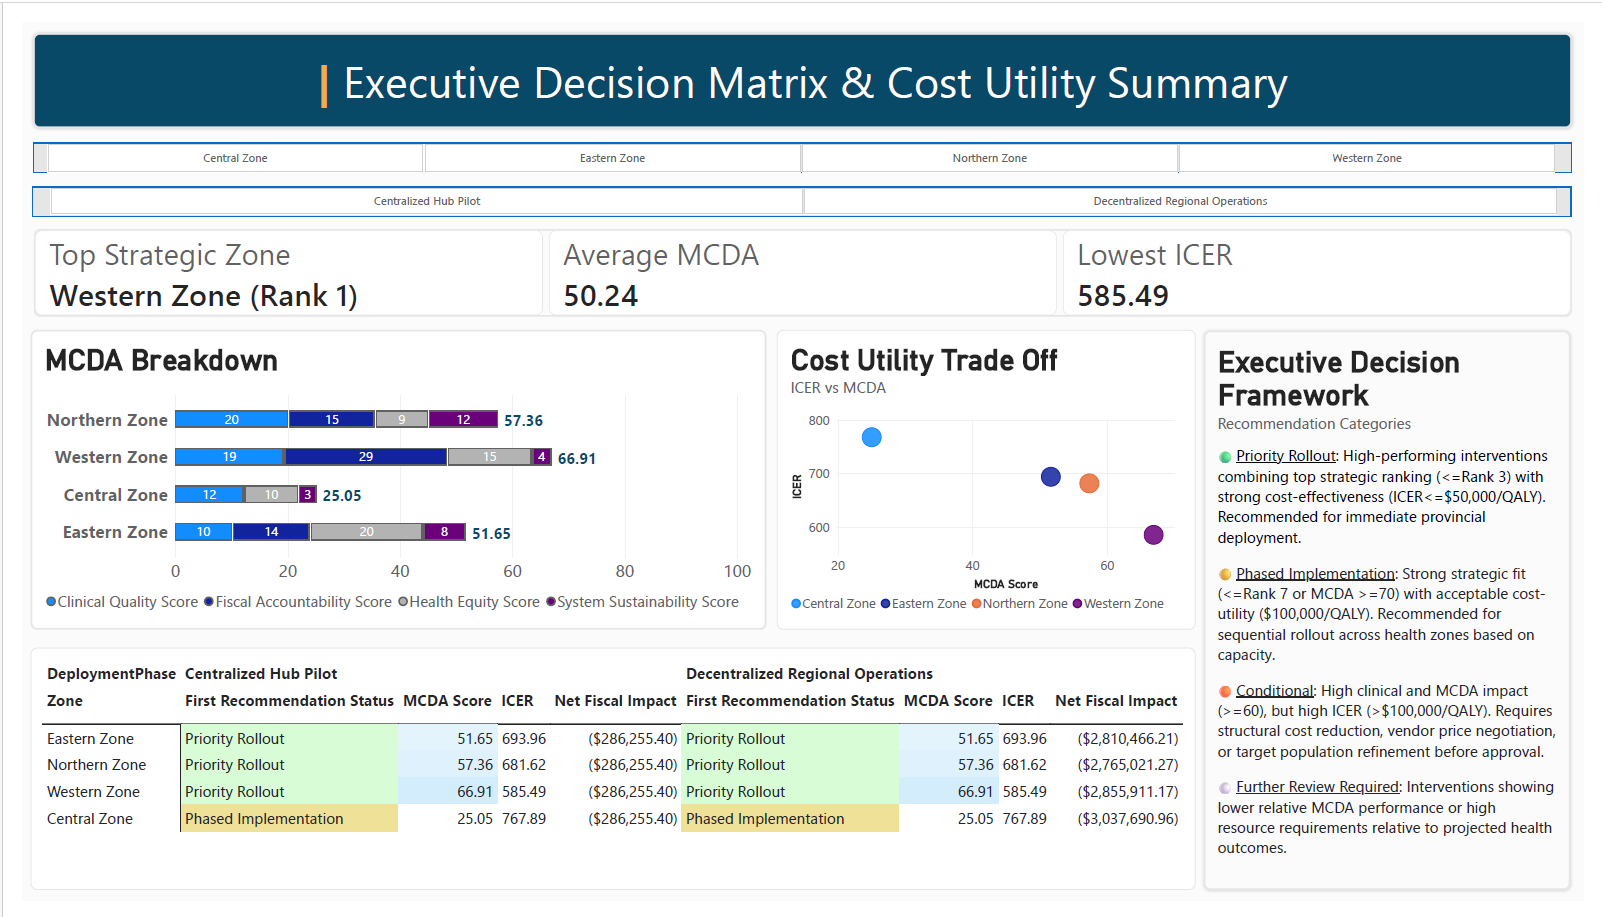

Layout of this report page (visuals, bound fields, positions):
{"tool":"powerbi","page":{"name":"Executive Decision Matrix","canvas":[1920,1080],"ordinal":2},"visuals":[{"type":"cardVisual","fields":{"Data":["MCDA_Output.Top Strategic Zone","Avg(MCDA_Output.Composite_MCDA_Index)","select","Min(MCDA_Output.CostUtility_ICER)"]},"box":[14,254,1892,108],"z":0},{"type":"textbox","box":[13,13,1892.6,116.6],"z":1000},{"type":"pivotTable","title":"Total Program Cost","fields":{"Columns":["ns_health_10yr_financial_forecast.DeploymentPhase"],"Rows":["MCDA_Output.Zone"],"Values":["Min(MCDA_Output.Recommendation Status)","Max(MCDA_Output.Composite_MCDA_Index)","Max(MCDA_Output.CostUtility_ICER)","Sum(ns_health_10yr_financial_forecast.Net_Fiscal_Impact)"]},"box":[10,768.6,1432.9,298.6],"z":2000},{"type":"scatterChart","title":"Cost Utility Trade Off ","fields":{"Series":["MCDA_Output.Zone"],"Size":["Sum(ns_health_10yr_financial_forecast.Total_Expected_Savings)"],"X":["MCDA_Output.Composite_MCDA_Index"],"Y":["MCDA_Output.CostUtility_ICER"]},"box":[928.3,378.3,515,368.3],"z":3000},{"type":"shape","box":[13,148,1892.6,37],"z":4000},{"type":"slicer","fields":{"Values":["ns_health_10yr_financial_forecast.Zone"]},"box":[10,148,1894,38],"z":5000},{"type":"shape","box":[12,202,1892.6,37],"z":6000},{"type":"slicer","fields":{"Values":["ns_health_10yr_financial_forecast.DeploymentPhase"]},"box":[14,202,1892,36],"z":7000},{"type":"barChart","title":"MCDA Breakdown","fields":{"Category":["MCDA_Output.Zone"],"Y":["Max(MCDA_Output.Pillar_1_Clinical_Quality_Score)","Max(MCDA_Output.Pillar_2_Fiscal_Accountability_Score)","Max(MCDA_Output.Pillar_3_Health_Equity_Score)","Max(MCDA_Output.Pillar_4_System_Sustainability_Score)"]},"box":[10,378.3,905,368.3],"z":8000},{"type":"textbox","title":"Executive Decision Framework","box":[1452.9,378.6,451.4,688.6],"z":9000}]}

Visuals, with their boxes in screenshot pixels (x1, y1, x2, y2), scaled from the page's 1920x1080 canvas onto the 1602x917 screenshot:
cardVisual - MCDA_Output.Top Strategic Zone x Avg(MCDA_Output.Composite_MCDA_Index): 12,216,1590,307
textbox: 11,11,1590,110
"Total Program Cost" pivotTable: 8,653,1204,906
"Cost Utility Trade Off " scatterChart: 775,321,1204,634
shape: 11,126,1590,157
slicer - ns_health_10yr_financial_forecast.Zone: 8,126,1589,158
shape: 10,172,1589,203
slicer - ns_health_10yr_financial_forecast.DeploymentPhase: 12,172,1590,202
"MCDA Breakdown" barChart: 8,321,763,634
"Executive Decision Framework" textbox: 1212,321,1589,906
